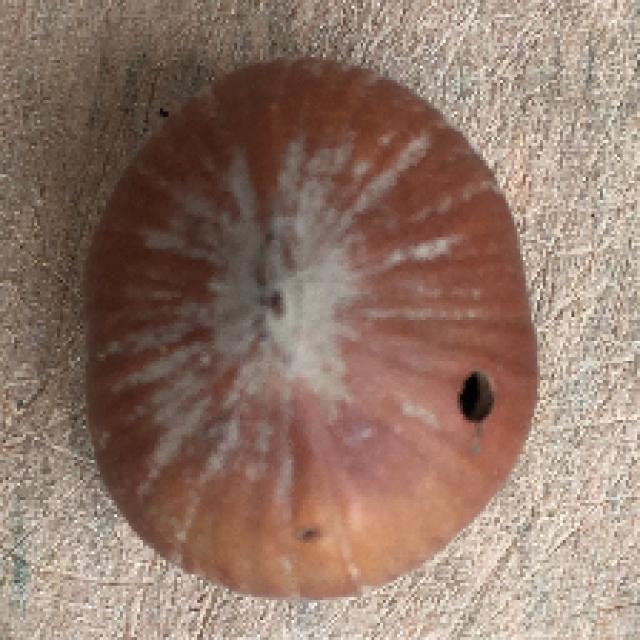DamagedHazelnut: (79, 57, 537, 592)
